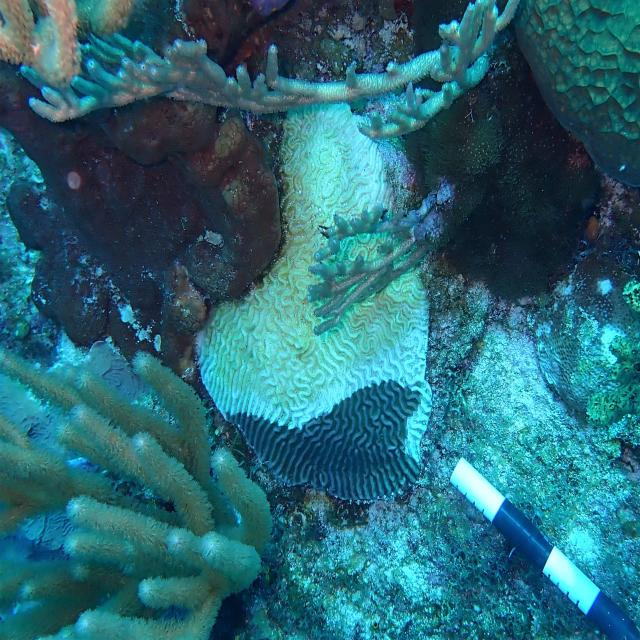Coral: (192, 101, 433, 498), (0, 350, 277, 640), (12, 0, 520, 138), (513, 0, 640, 189), (307, 184, 463, 336), (0, 0, 135, 87)
